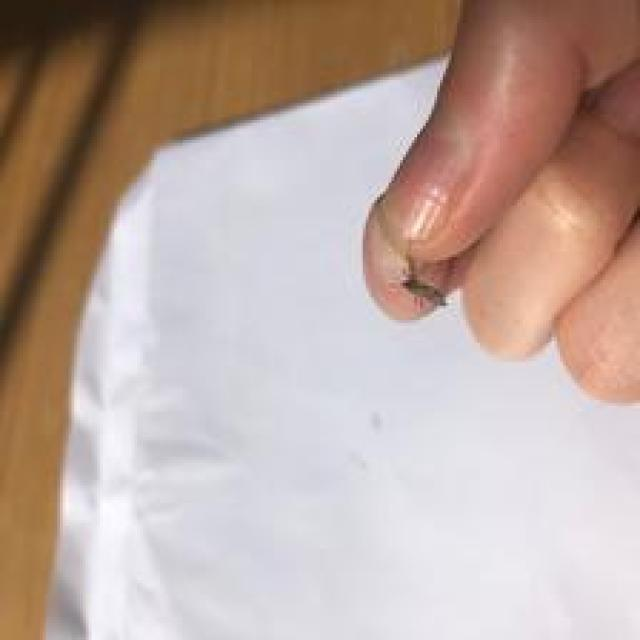Culex: (399, 248, 450, 308)
